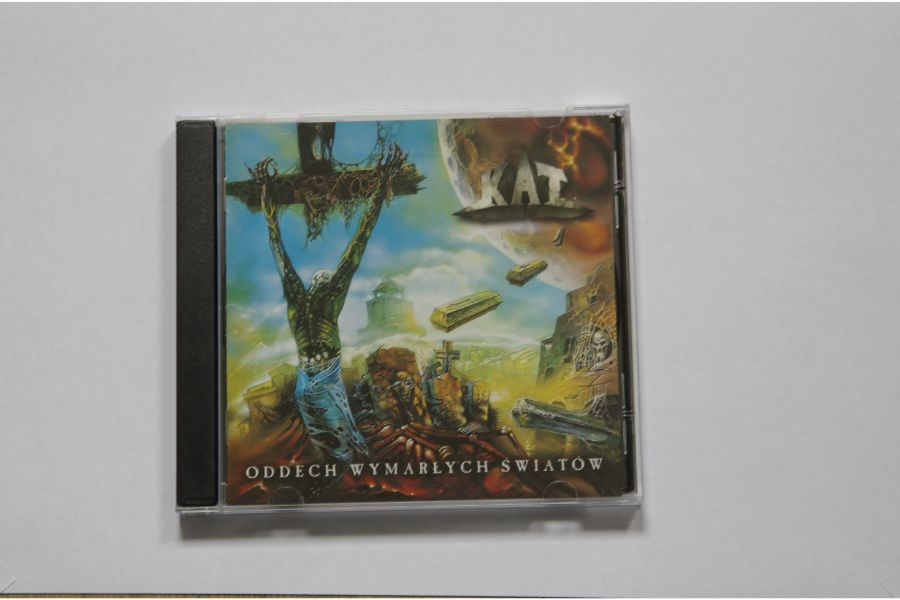album: (171, 117, 645, 510)
